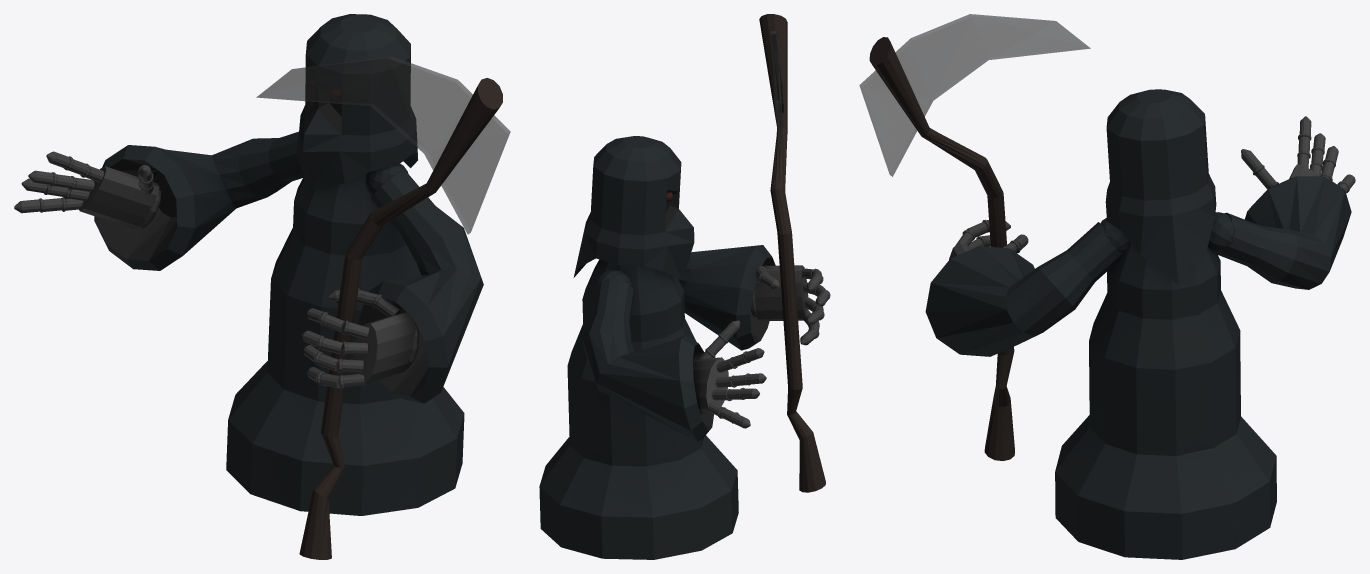
3 renders of one model, left to right at view 1: azimuth 30°, elevation 25°; view 2: azimuth 150°, elevation 25°; view 3: azimuth 270°, elevation 25°, orthographic. The views are drawn at different scales.
Visible parts, largest first — view 1: Grim_reaper_mesh892375890; view 2: Grim_reaper_mesh892375890; view 3: Grim_reaper_mesh892375890.
Boxes of the visible parts, left/top/right/bottom form: Grim_reaper_mesh892375890: left=14, top=14, right=510, bottom=559; Grim_reaper_mesh892375890: left=539, top=14, right=830, bottom=559; Grim_reaper_mesh892375890: left=859, top=14, right=1355, bottom=559.
Size of the model in its own units: 3.78 by 5.38 by 5.14.
Materials: 6 (5 with a texture image).
